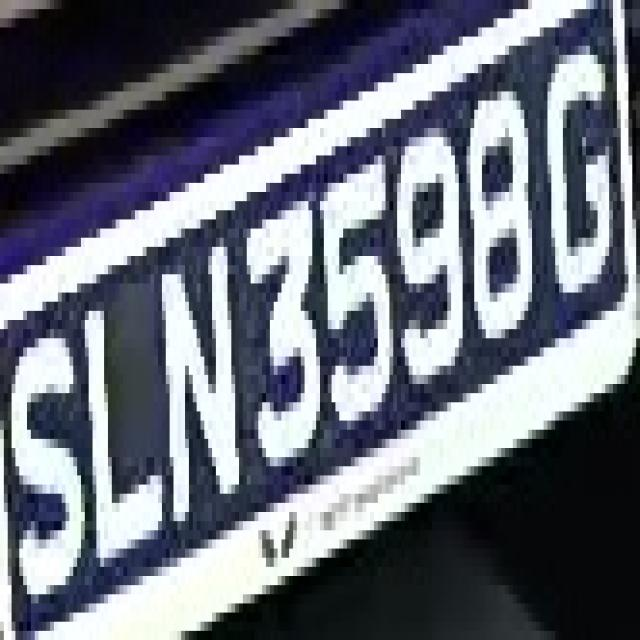3: (239, 174, 332, 512)
5: (324, 137, 393, 466)
8: (459, 82, 547, 348)
9: (389, 119, 463, 402)
G: (532, 18, 628, 320)
L: (85, 265, 158, 576)
N: (150, 220, 247, 530)
S: (11, 311, 85, 622)
